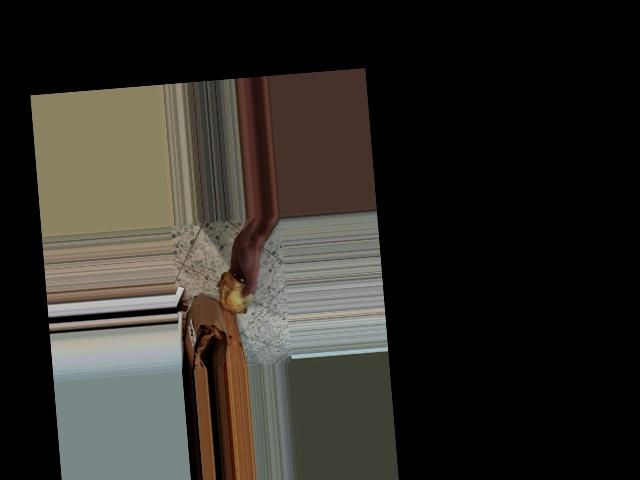onion: (215, 266, 254, 317)
